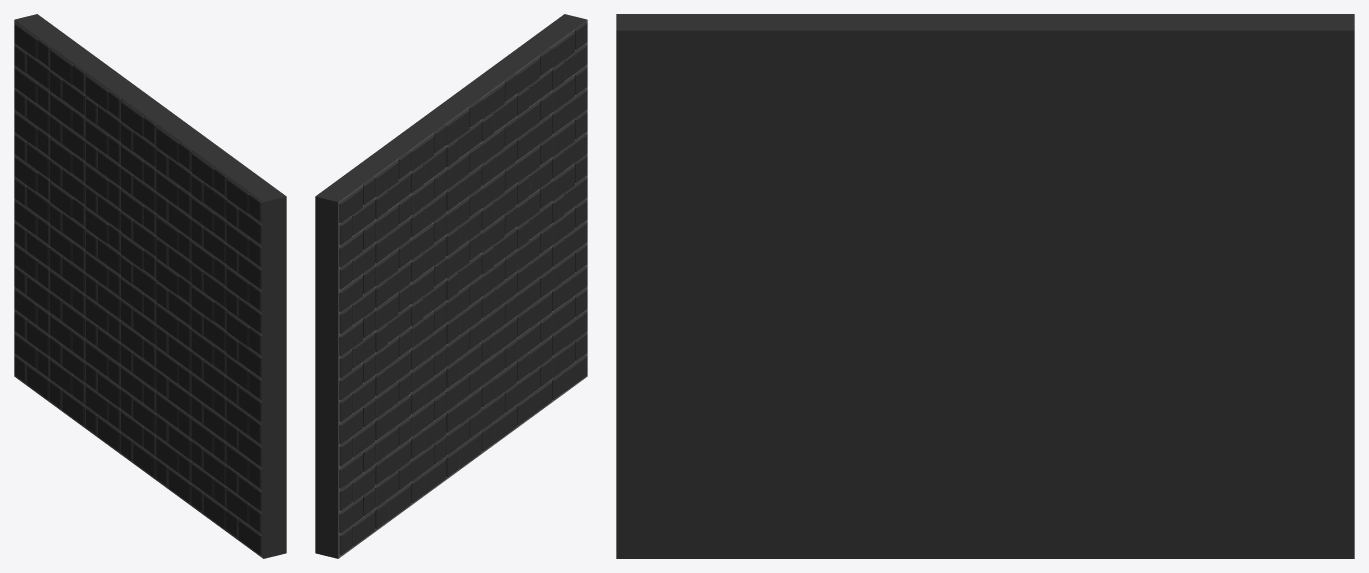
Rendered from DungeonPlatformRotatedRight.fbx.
The picture shows the model from 3 angles, left to right: view 1: azimuth 30°, elevation 25°; view 2: azimuth 150°, elevation 25°; view 3: azimuth 270°, elevation 25°; orthographic projection. The views are drawn at different scales.
Parts seen in each view (by area): view 1: Cube.001; view 2: Cube.001; view 3: Cube.001.
Part boxes in pixels (x1,y1,x2,y2): Cube.001: (14,14,286,558); Cube.001: (315,14,587,558); Cube.001: (616,14,1354,558).
Size of the model in its own units: 328 by 416 by 24.1.
